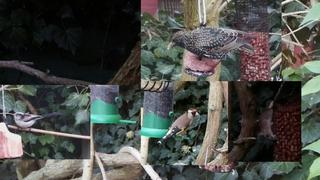goldfinch: (156, 108, 201, 147)
long tailed tit: (12, 112, 64, 132)
mouse: (257, 108, 275, 140)
starling: (168, 27, 255, 60)
